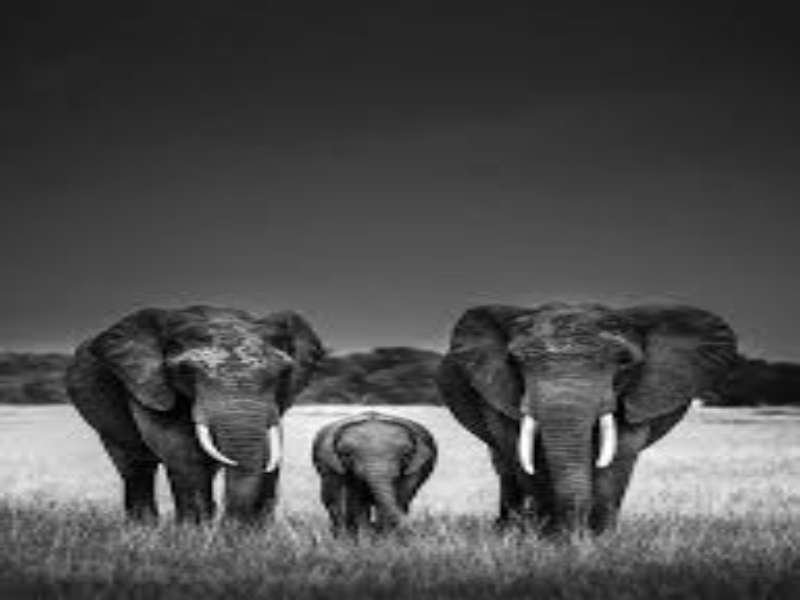elephant: (427, 276, 751, 537), (55, 270, 328, 543)
